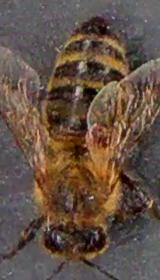varroa_mite: (90, 118, 116, 152)
